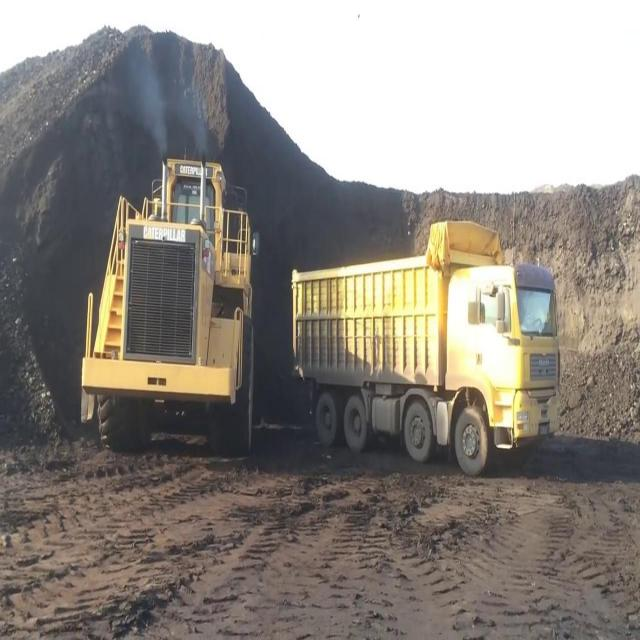Dump Truck: (286, 216, 564, 476)
Loader: (78, 154, 260, 458)
